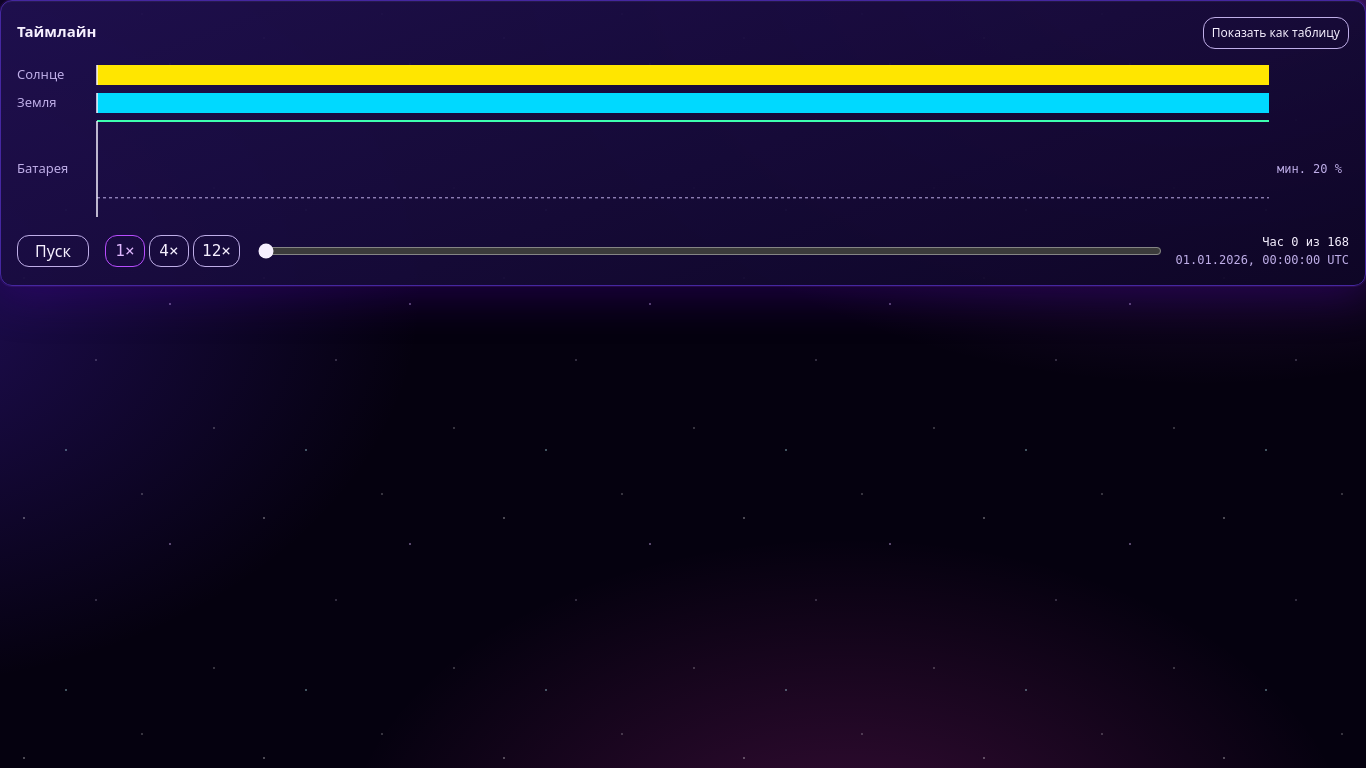
it: Timeline › plays 12 model hours per second at 12x
Step 1. Click the button "12×" → (216, 251), box [193,235,240,267]
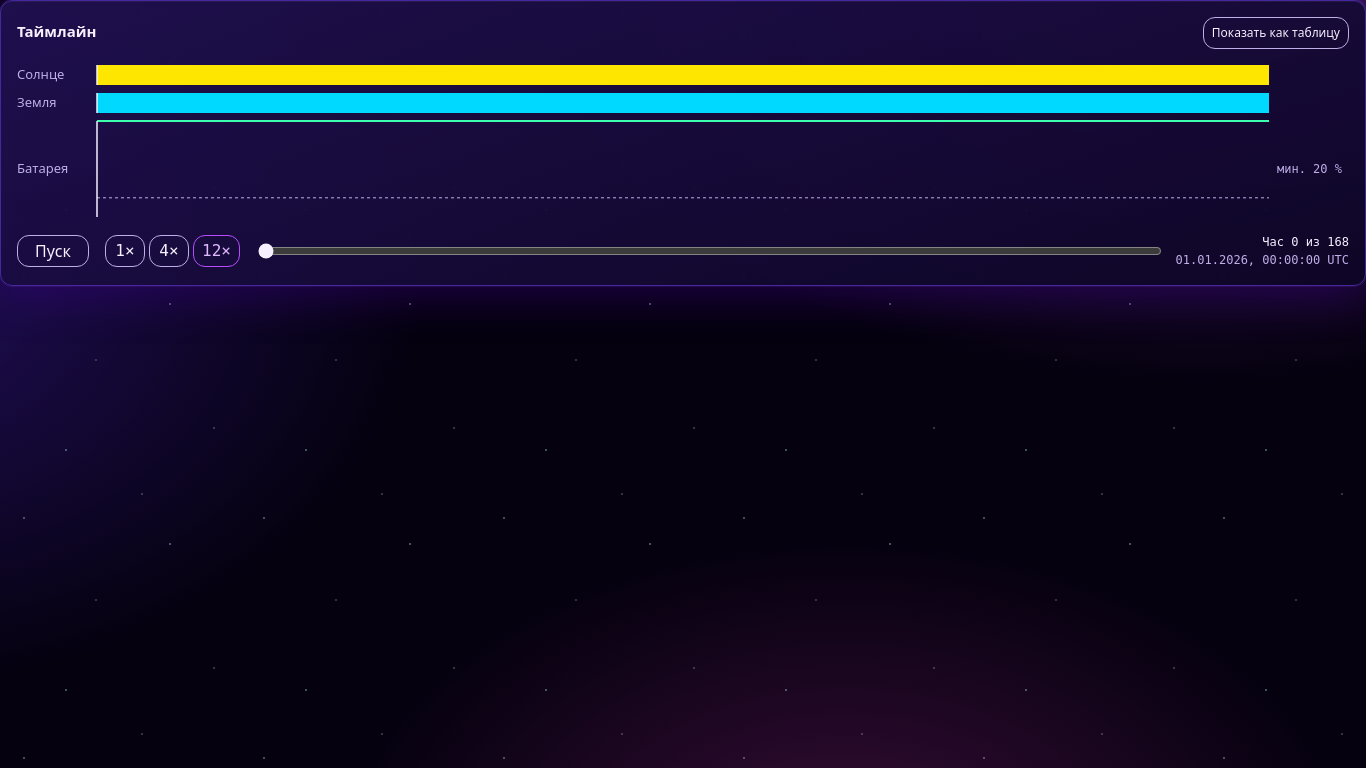
Step 2. Click the button "Пуск" → (53, 251), box [17,235,89,267]
Wait 1000 ms
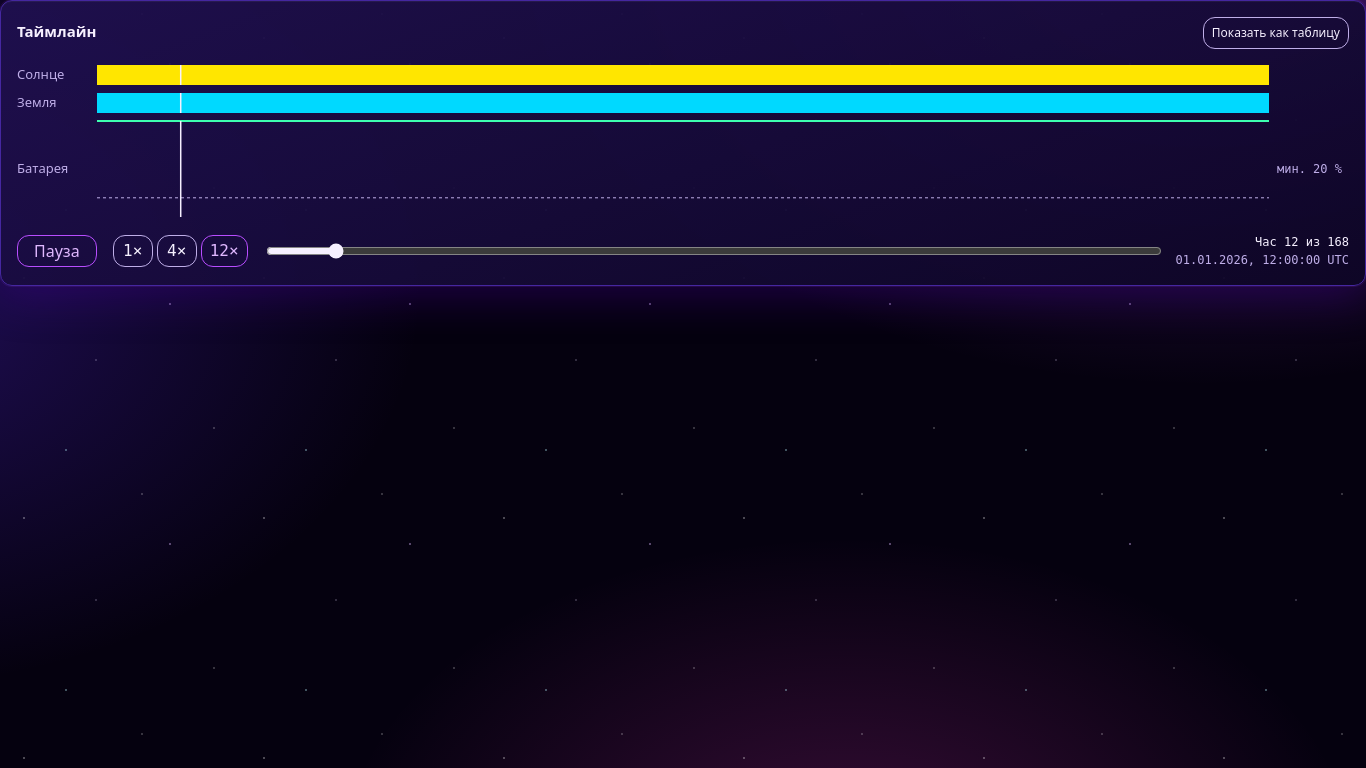
expect the slider named "Час на шкале" holds "12": met, box [266,243,1162,259]
expect the button "Пауза" is shown: met, box [17,235,97,267]
